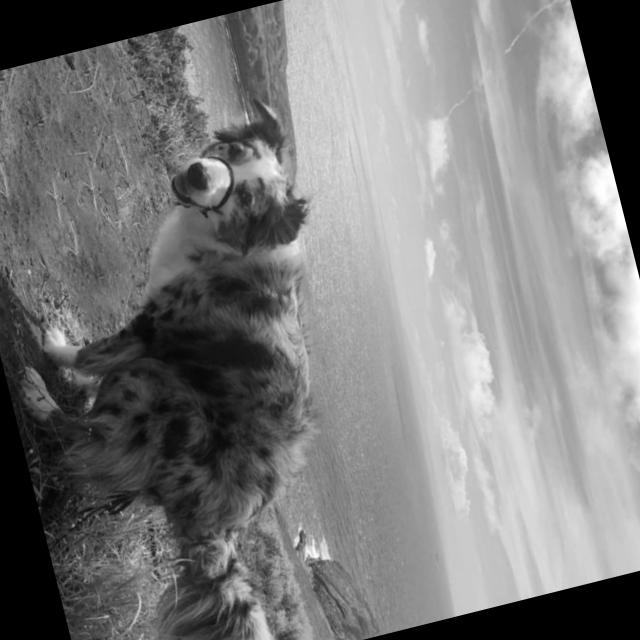squatting: (0, 83, 418, 640)
